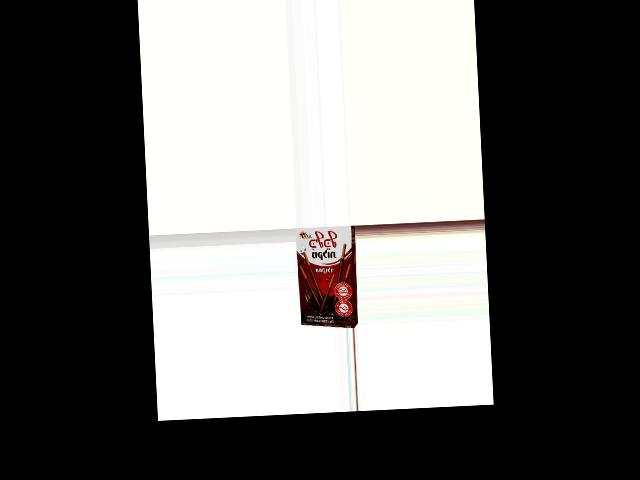chocolate: (294, 225, 358, 323)
